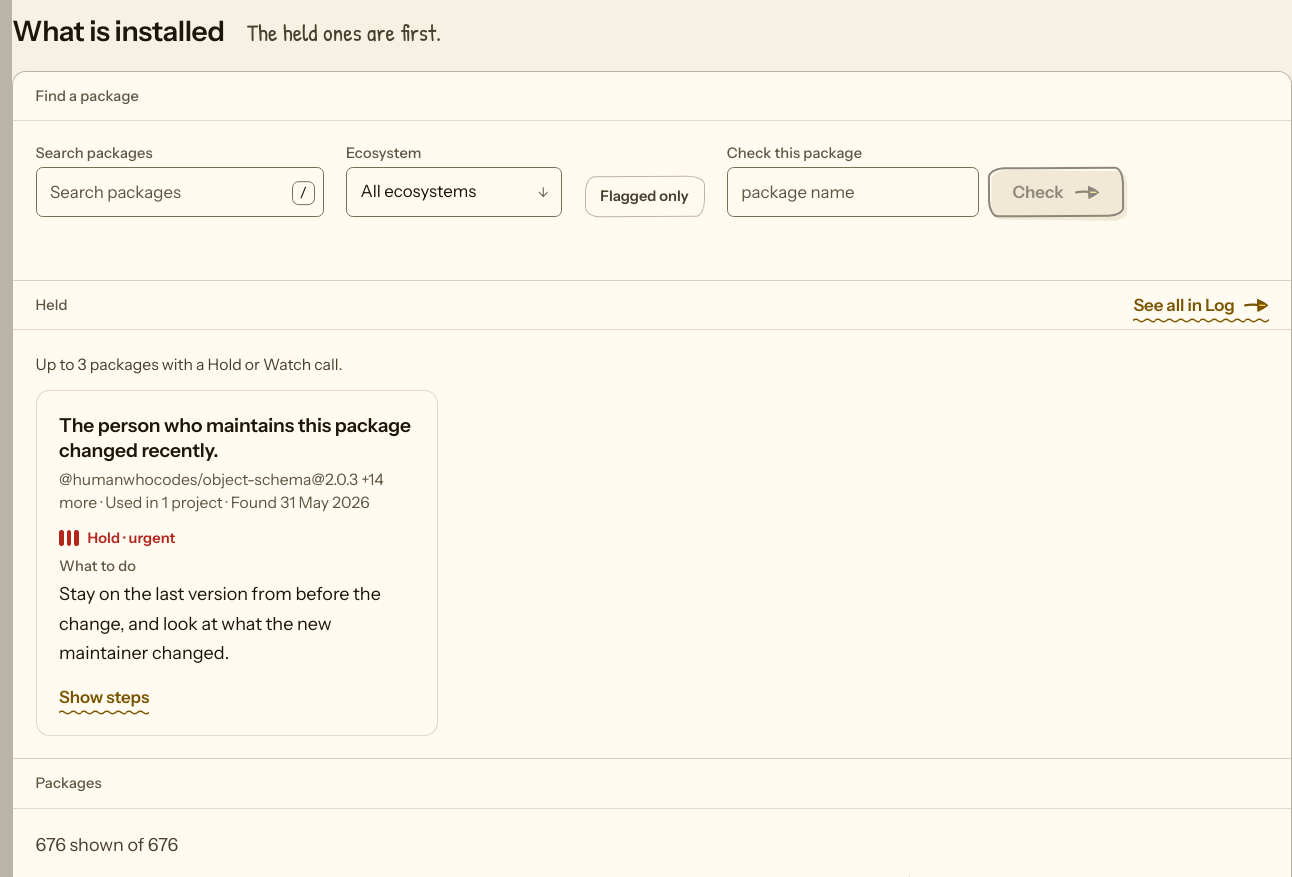
illustrated states › Hold search with no results: a Hold on the page means a plain sentence, no Nib line
Expected: the text "676 shown of 676" is shown, 36,834 -> 178,856
Type "zzzz-not-a-package" into the field labelled "Search packages" at (180, 192), box 36,167 -> 324,217
(page scrolled)
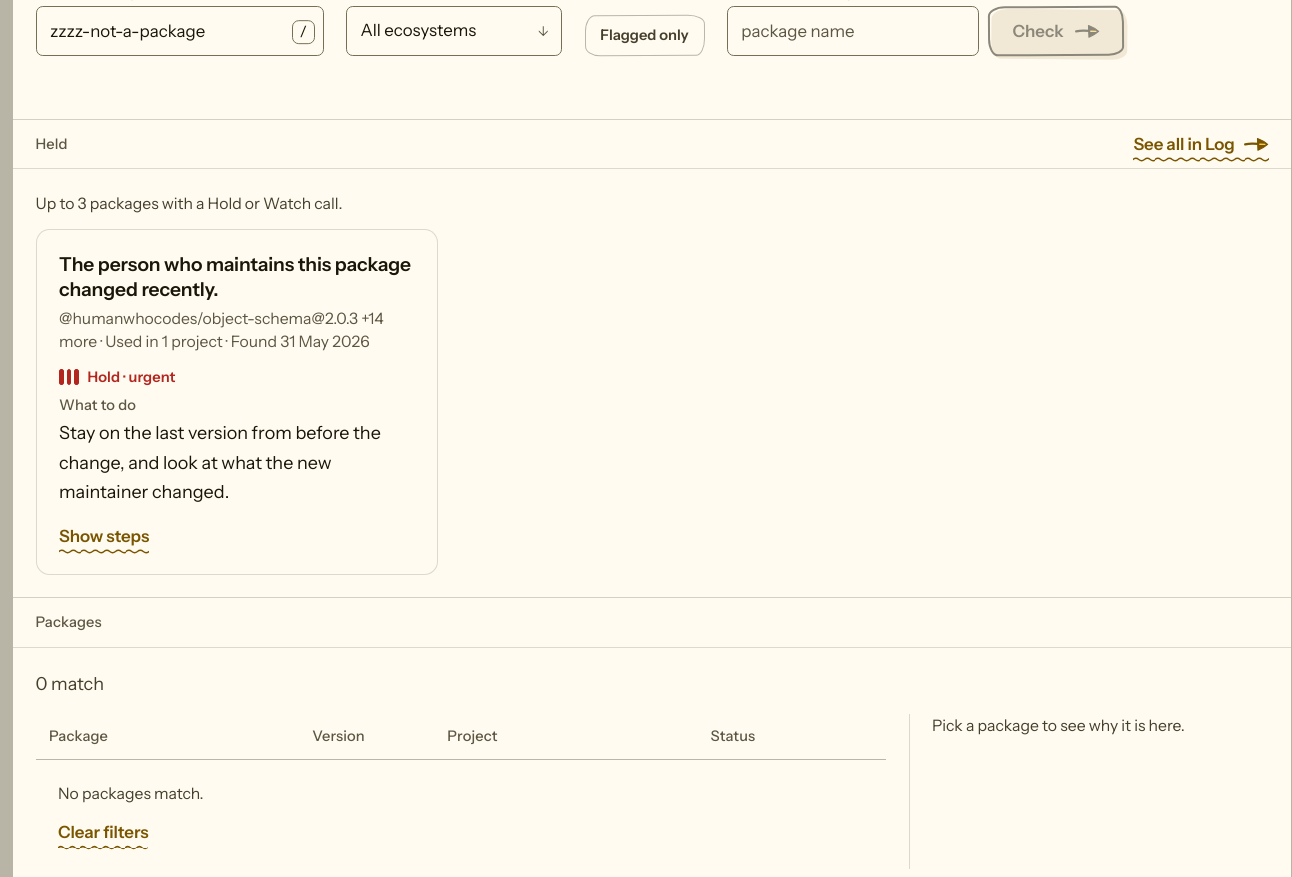
Result: the text "No packages match." is shown at 58,782 -> 204,806
